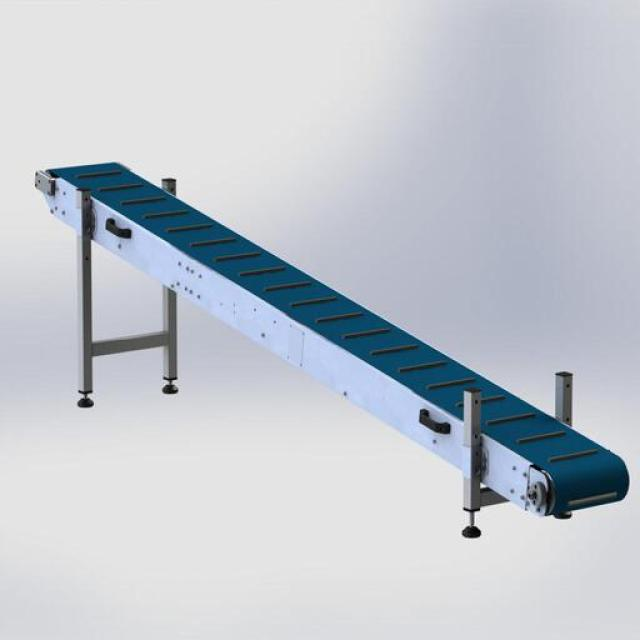conveyor: (48, 161, 628, 517)
